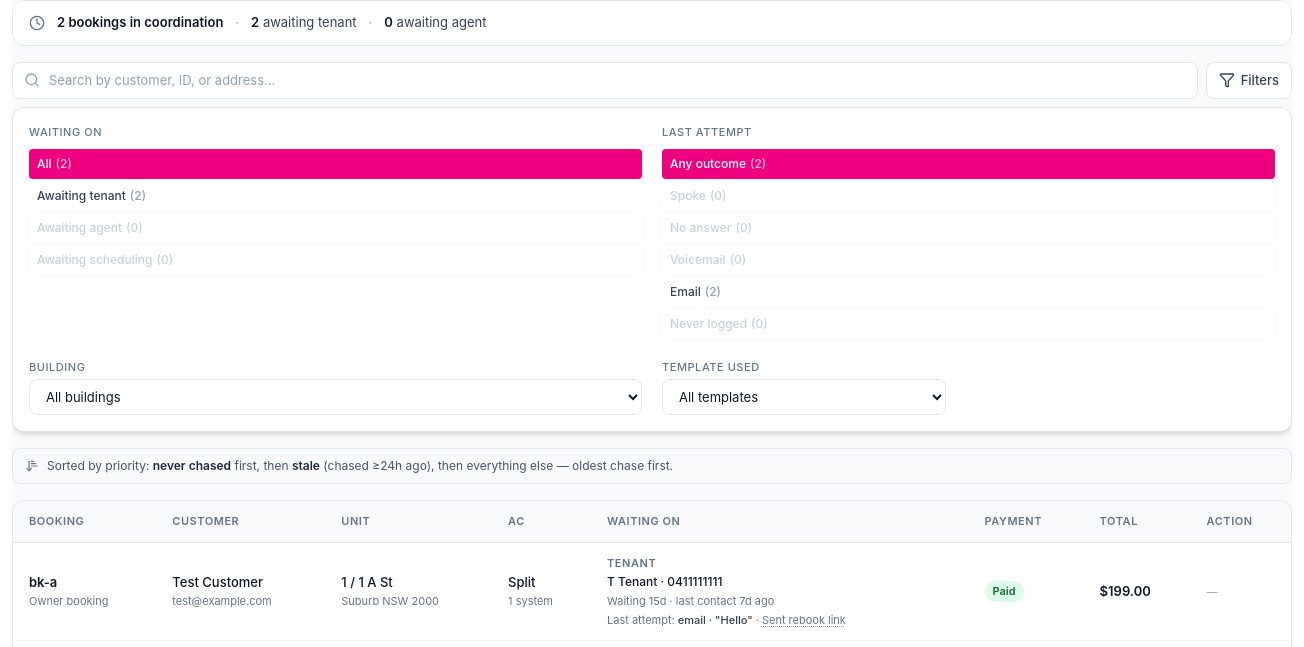
Test: AwaitingCoordinationView — template filter pivot › clears the pivot when the chip's clear button is clicked
Click the button with test id "coordinating-with-last-attempt-template" showing "Sent rebook link": (804, 620) 762,612 -> 846,628
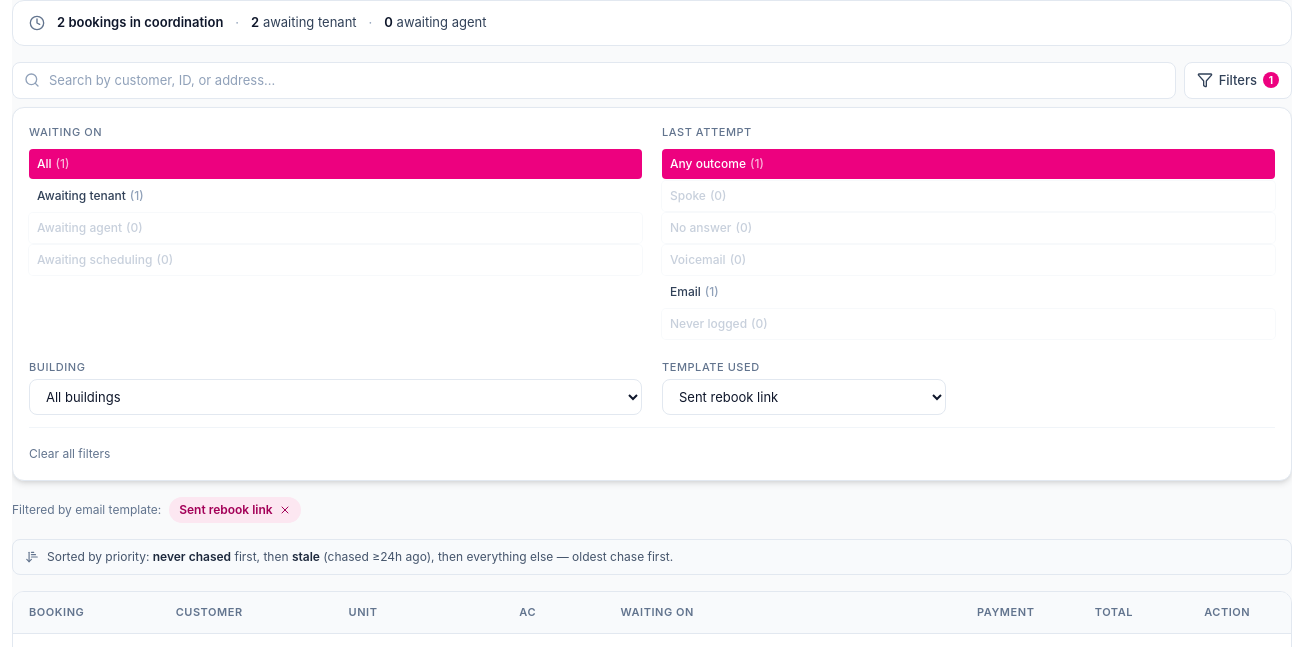
Click the button with test id "button-clear-coordination-template-filter": (235, 510) 169,497 -> 301,523
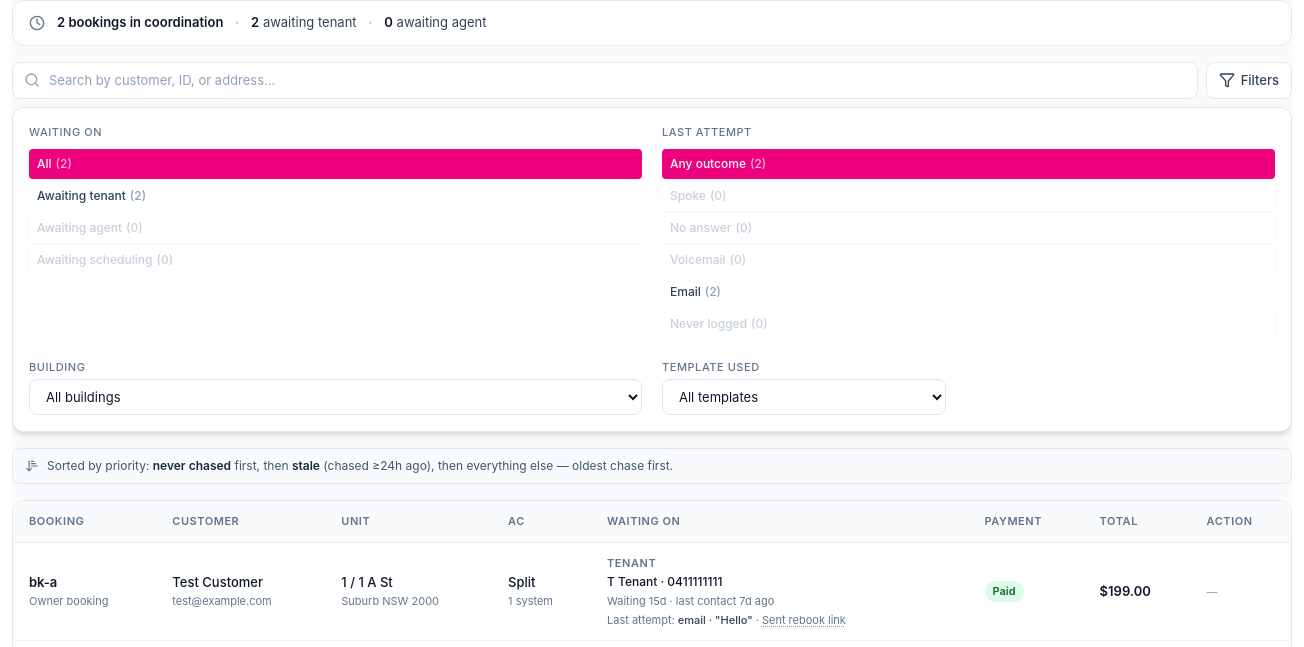
Now the element with test id "coordination-template-filter-chip" is gone
